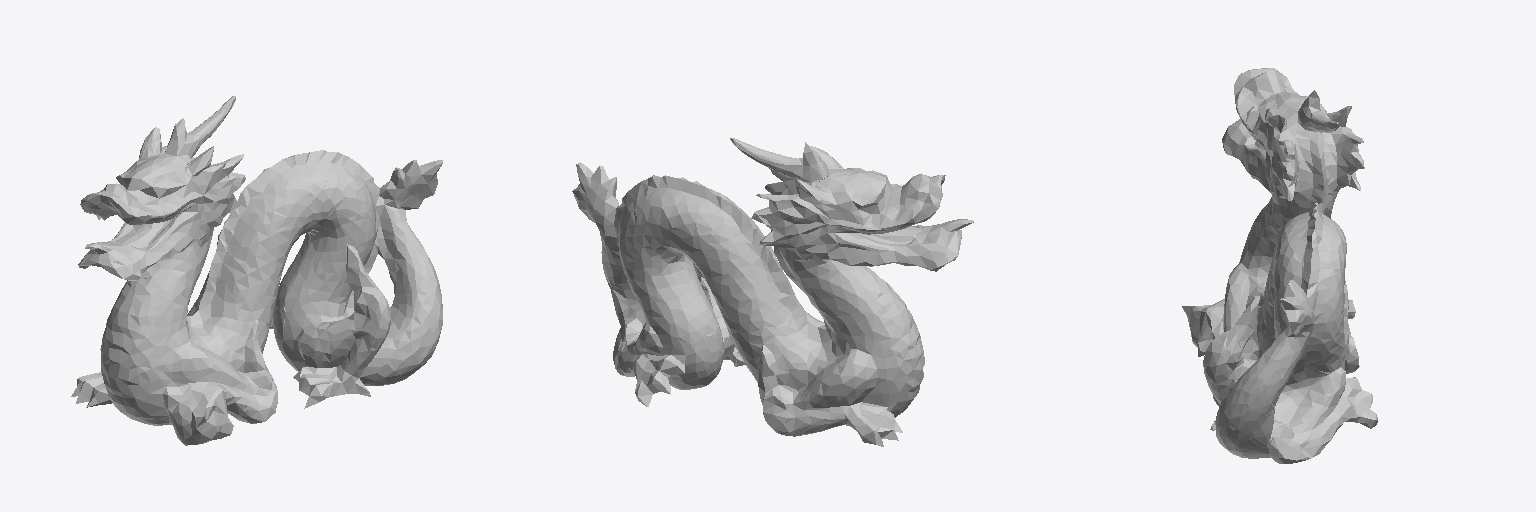
Rendered from dragon_x.obj.
3 views of the same model, side by side, from view 1: azimuth 30°, elevation 25°; view 2: azimuth 150°, elevation 25°; view 3: azimuth 270°, elevation 25° (orthographic).
Visible parts, largest first — view 1: Object.1; view 2: Object.1; view 3: Object.1.
Boxes of the visible parts, <box> form: Object.1: <box>71,96,442,445</box>; Object.1: <box>572,138,973,446</box>; Object.1: <box>1182,68,1377,463</box>.
Bounding box in the file's own units: 60.73 × 42.78 × 27.34.